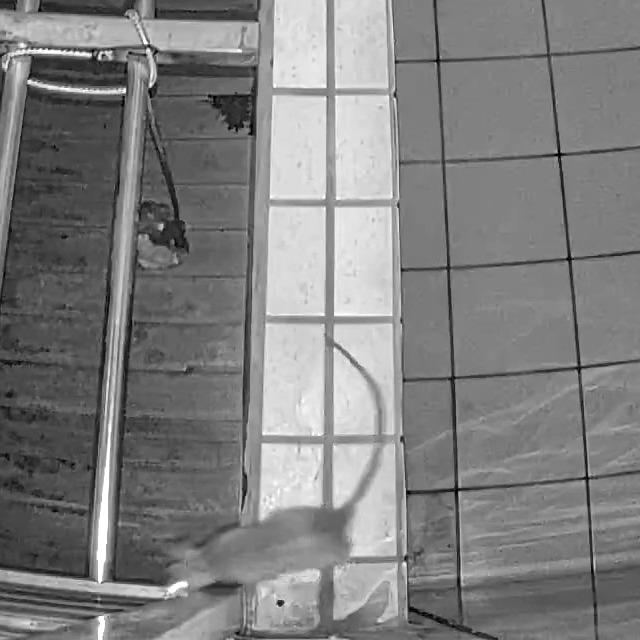rat: (158, 332, 386, 600)
